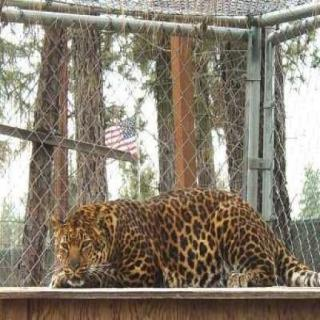Leopard: (41, 172, 319, 296)
